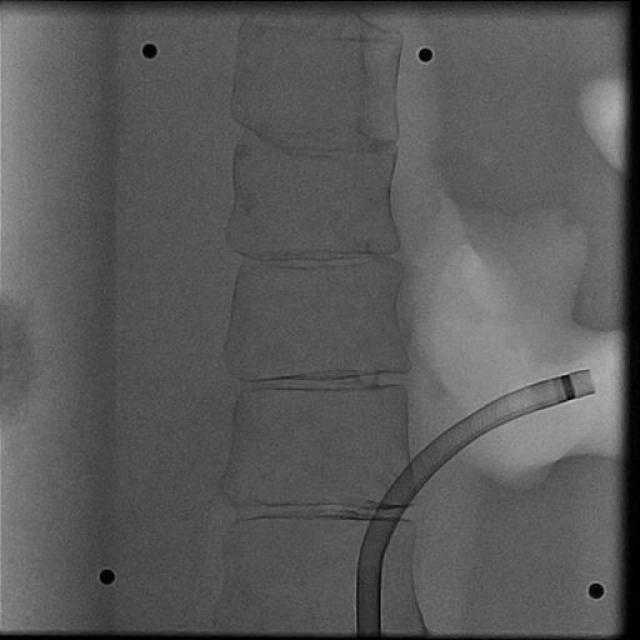bend: (356, 565, 381, 581)
entry: (357, 627, 382, 635)
marker: (559, 374, 576, 401)
tip: (588, 371, 597, 393)
